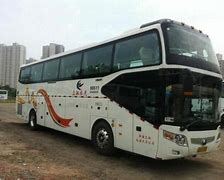bigcar: (11, 19, 222, 159)
